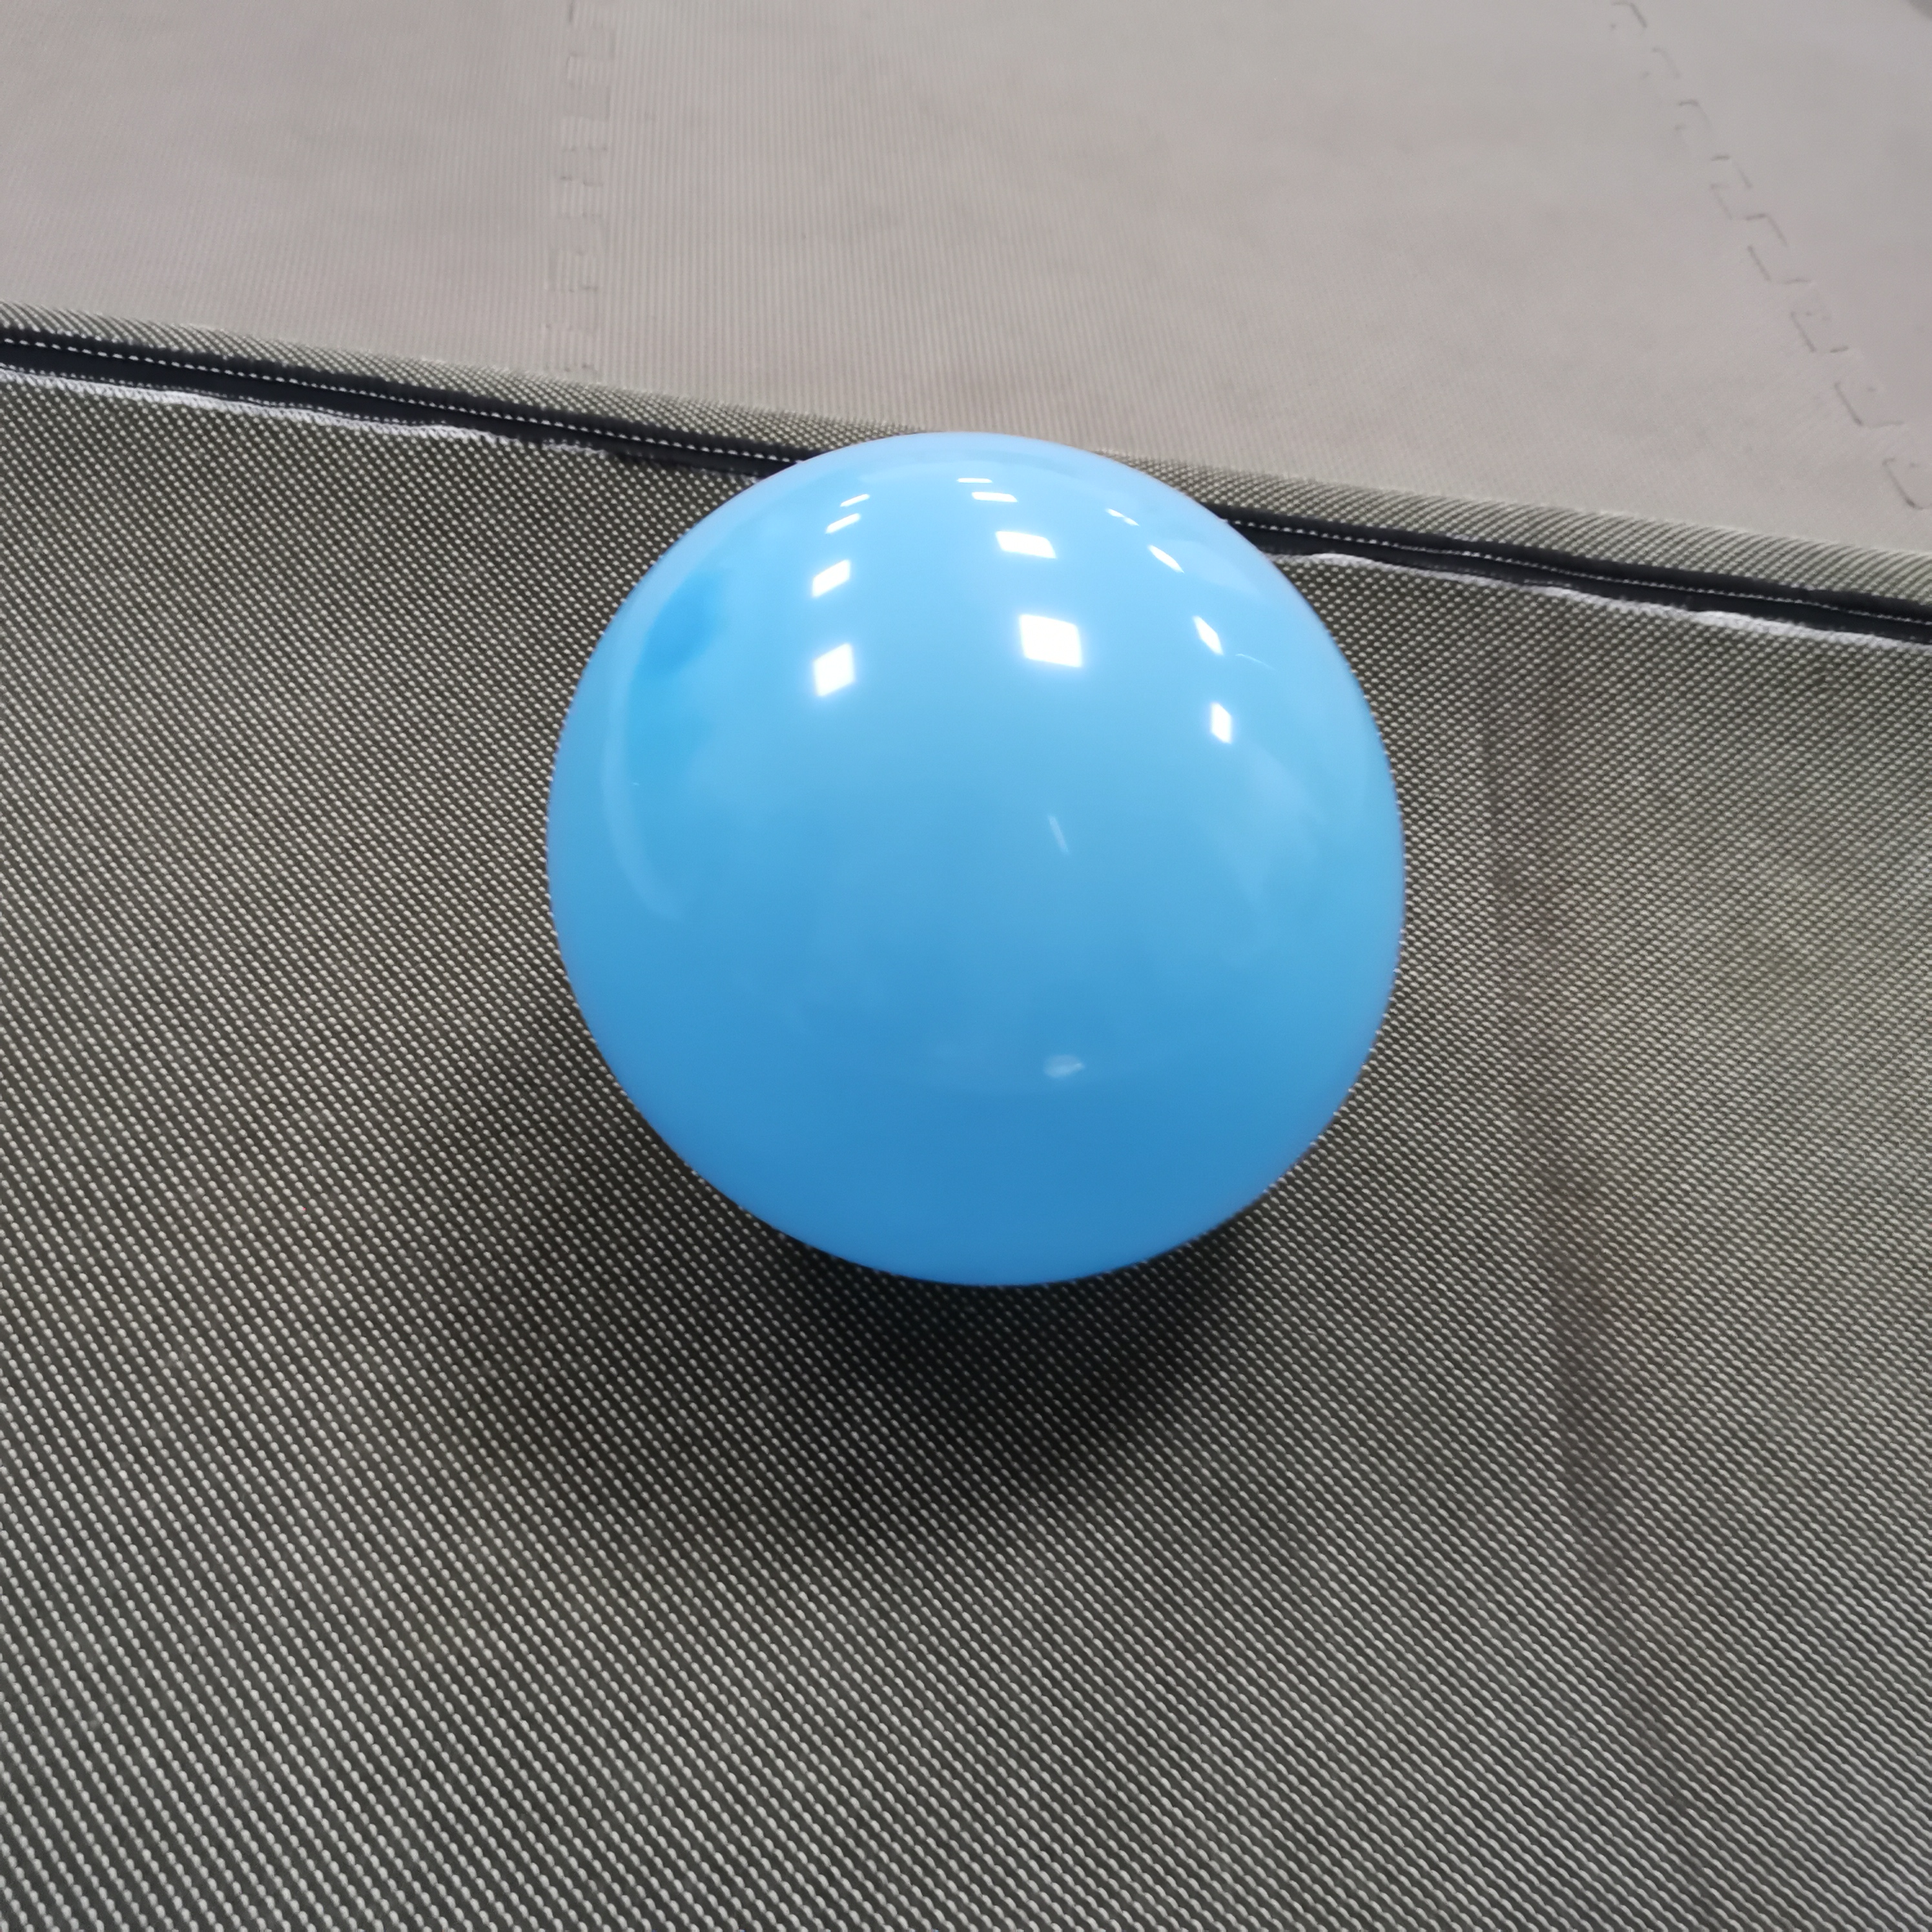balloon: (543, 428, 1414, 1299)
